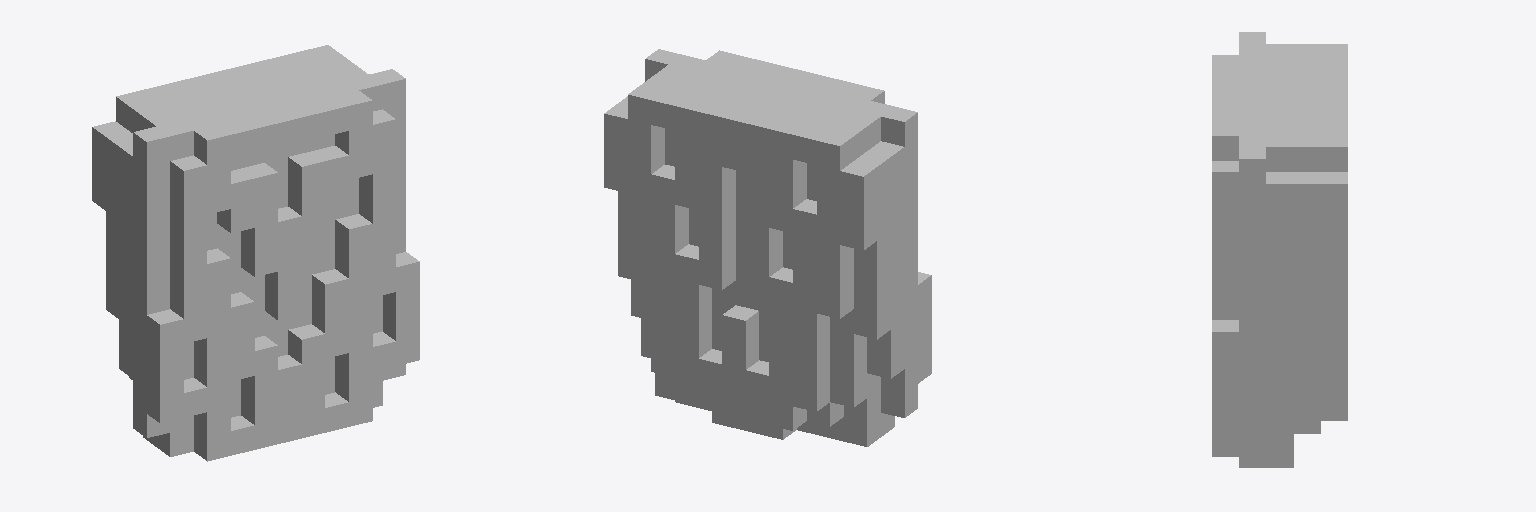
File: LargeArmorKit_LOD0.obj
The picture shows the model from 3 angles: view 1: azimuth 30°, elevation 25°; view 2: azimuth 150°, elevation 25°; view 3: azimuth 270°, elevation 25°; orthographic projection.
Parts seen in each view (by area): view 1: object 1; view 2: object 1; view 3: object 1.
Part boxes in pixels (bbox=[...]): object 1: bbox=[92, 45, 419, 461]; object 1: bbox=[604, 49, 931, 446]; object 1: bbox=[1212, 32, 1347, 467].
Bounding box in the file's own units: 1.1 × 1.3 × 0.5.